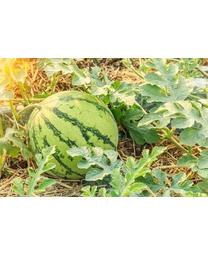watermelon: (27, 87, 119, 180)
